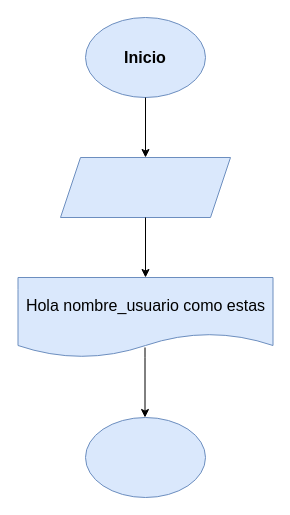
Image size: 290x515. Some labels were removed from this diagram. Each missing label, with the centre of its shape:
"Fin" goes at [145,457].
"nombre_usuario" goes at [145,187].
